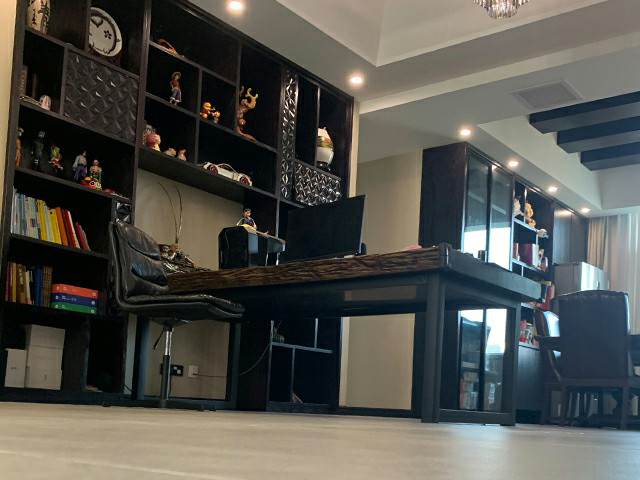cabinet: (412, 141, 590, 423), (1, 311, 344, 412)
stool: (104, 219, 245, 411), (557, 287, 640, 433)
table: (148, 242, 546, 426)
